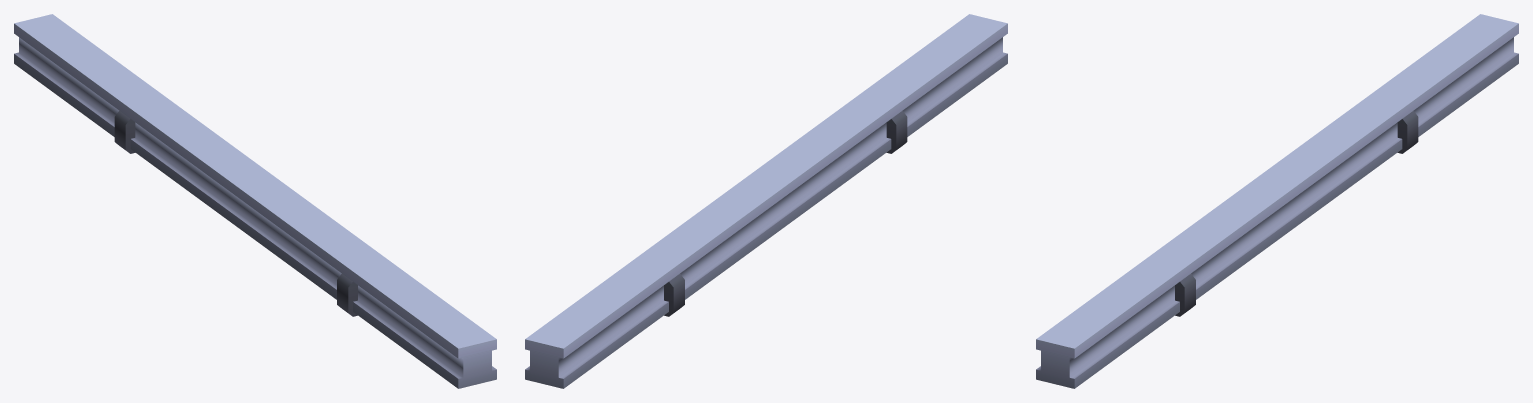
The model's file is kenney-coaster-coaster-monorail-straight.glb.
The picture shows the model from 3 angles, left to right: view 1: azimuth 30°, elevation 25°; view 2: azimuth 150°, elevation 25°; view 3: azimuth 330°, elevation 25°; orthographic projection.
Parts seen in each view (by area): view 1: coaster-monorail-straight; view 2: coaster-monorail-straight; view 3: coaster-monorail-straight.
Boxes of the visible parts, x1=… form: coaster-monorail-straight: x1=14, y1=14, x2=496, y2=388; coaster-monorail-straight: x1=525, y1=14, x2=1007, y2=388; coaster-monorail-straight: x1=1036, y1=14, x2=1518, y2=388.
Bounding box in the file's own units: 0.25 × 0.2251 × 4.
Materials: 1 (1 with a texture image).
